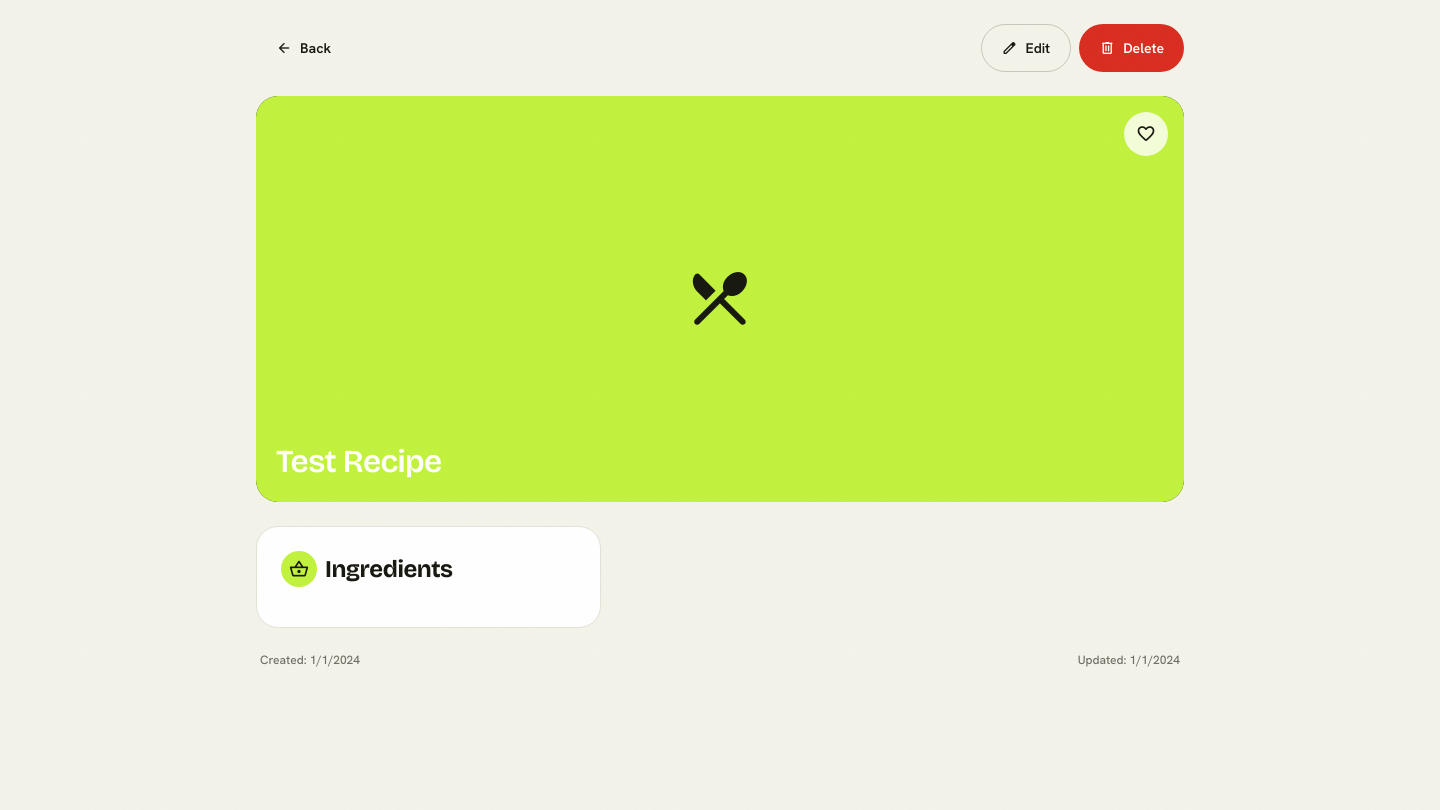
Scenario: RecipeDetail Page › delete functionality › should show confirmation dialog when delete is clicked
Click the button "Delete" at (1132, 48), box [1079,24,1184,72]
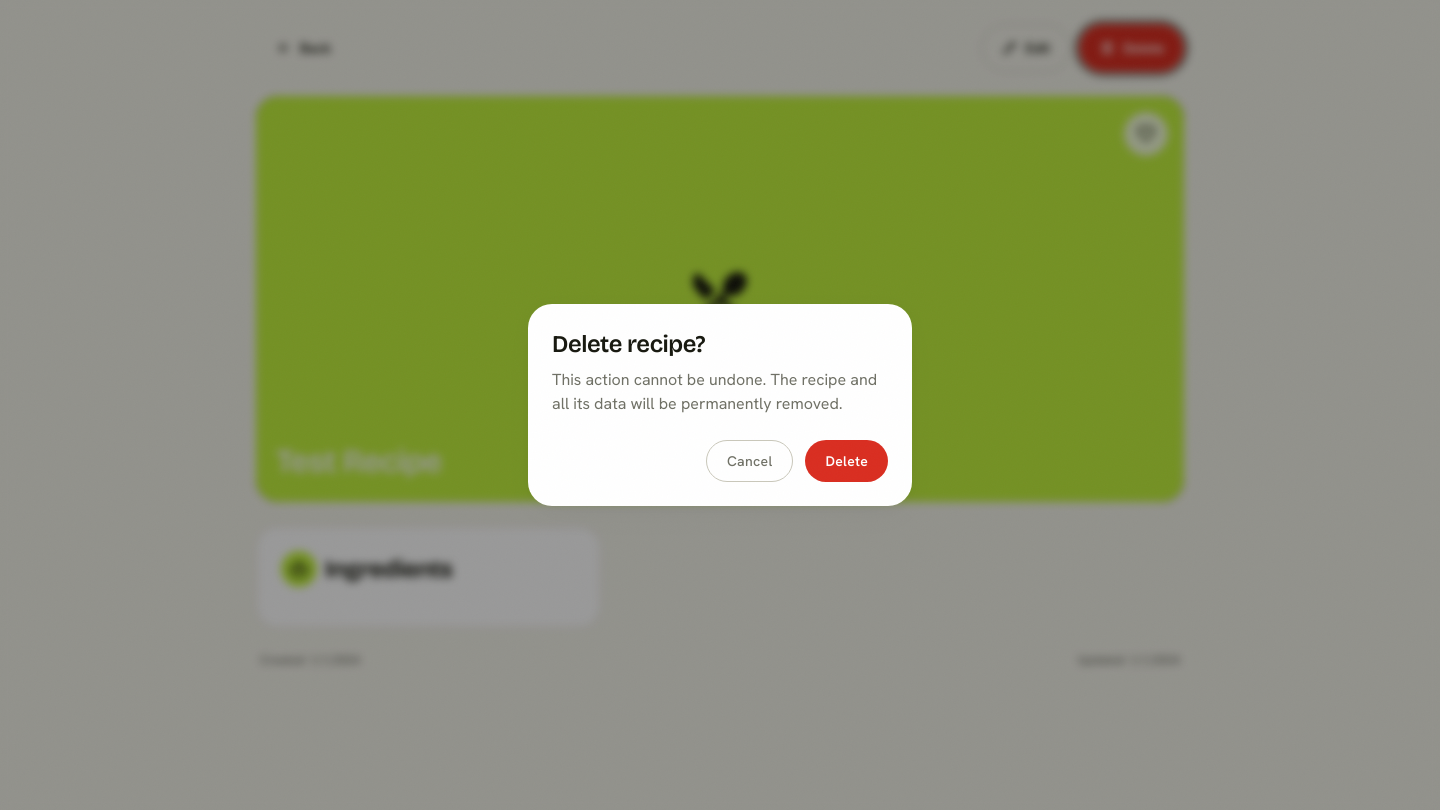
Expected: the heading "Delete recipe?" is shown, [552,330,705,358]
Expected: the button "Cancel" is shown, [706,440,794,482]
